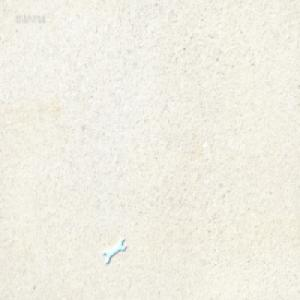Wrench: (103, 236, 126, 264)
